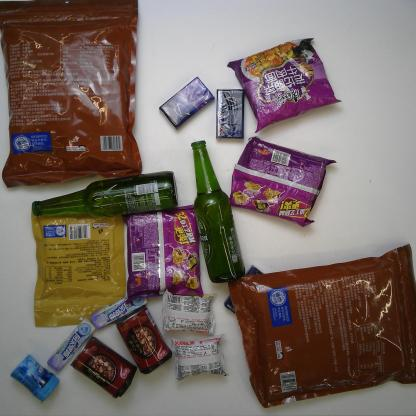Alcohol: (186, 138, 244, 287), (30, 169, 180, 220)
Candy: (48, 311, 96, 372), (87, 285, 149, 331)
Canned Food: (70, 333, 138, 400), (117, 303, 174, 375)
Dessert: (166, 328, 231, 382), (158, 284, 218, 336)
Dried Food: (226, 243, 416, 408), (1, 0, 142, 189)
Dried Fruit: (29, 196, 132, 328)
Gum: (160, 75, 216, 130), (223, 263, 271, 319), (9, 353, 60, 402), (211, 80, 248, 143)
Instant Noodles: (227, 36, 342, 134), (228, 129, 337, 230), (122, 201, 205, 301)
